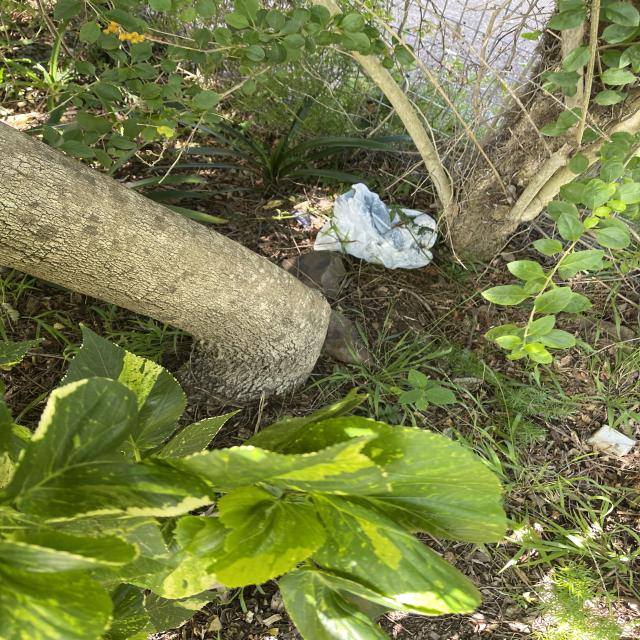bag: (318, 181, 438, 275)
cup: (290, 206, 315, 232)
